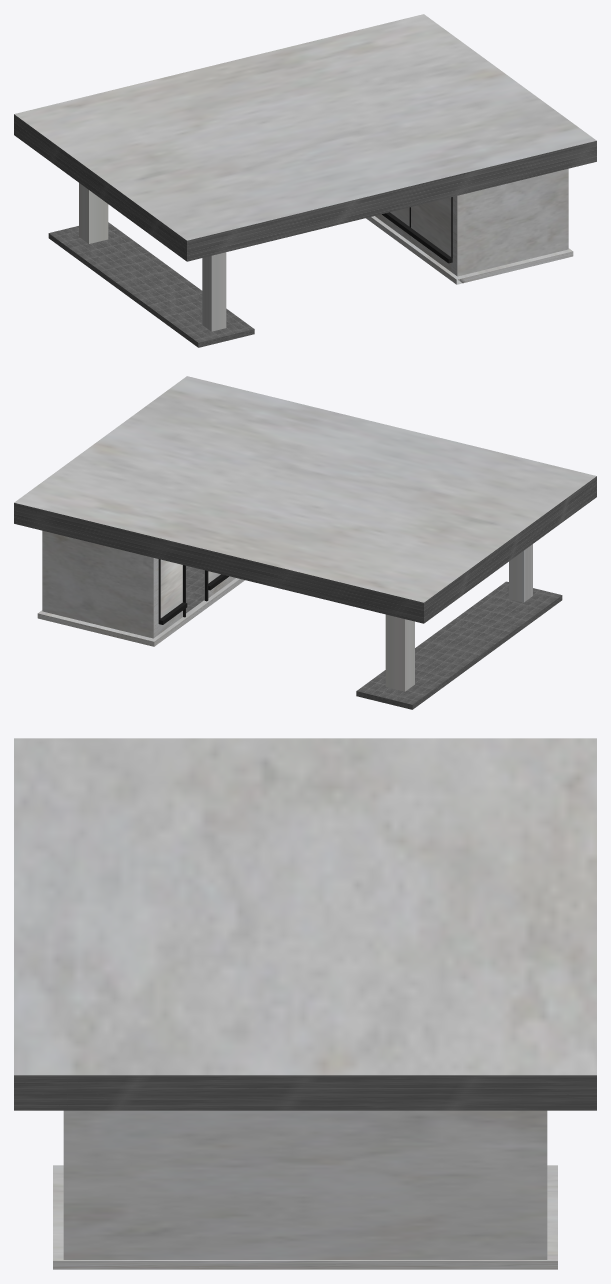
File: gasStation.obj
3 renders of one model, top to bottom at view 1: azimuth 30°, elevation 25°; view 2: azimuth 150°, elevation 25°; view 3: azimuth 270°, elevation 25°, orthographic. The views are drawn at different scales.
Parts seen in each view (by area): view 1: Cube.001; view 2: Cube.001; view 3: Cube.001.
Boxes of the visible parts, bbox=[...] form: Cube.001: bbox=[14, 14, 596, 347]; Cube.001: bbox=[14, 376, 596, 709]; Cube.001: bbox=[14, 738, 596, 1269].
Bounding box in the file's own units: 50.35 × 14.23 × 36.81.
